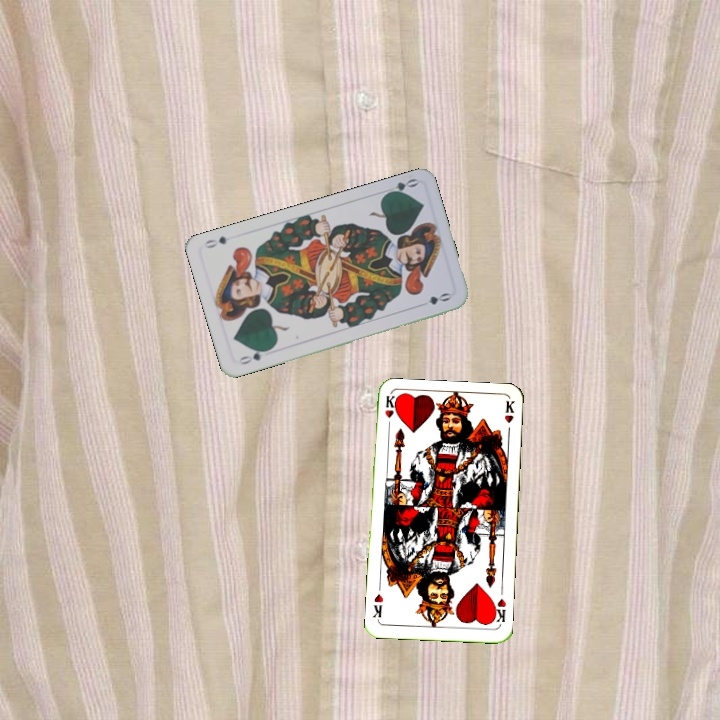GO: (380, 174, 420, 198), (234, 345, 273, 367)
HK: (381, 393, 398, 433), (489, 595, 508, 627)
